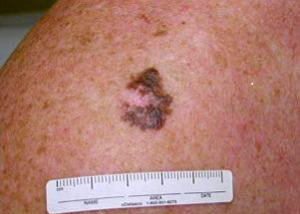Melanoma: (121, 67, 174, 133)
